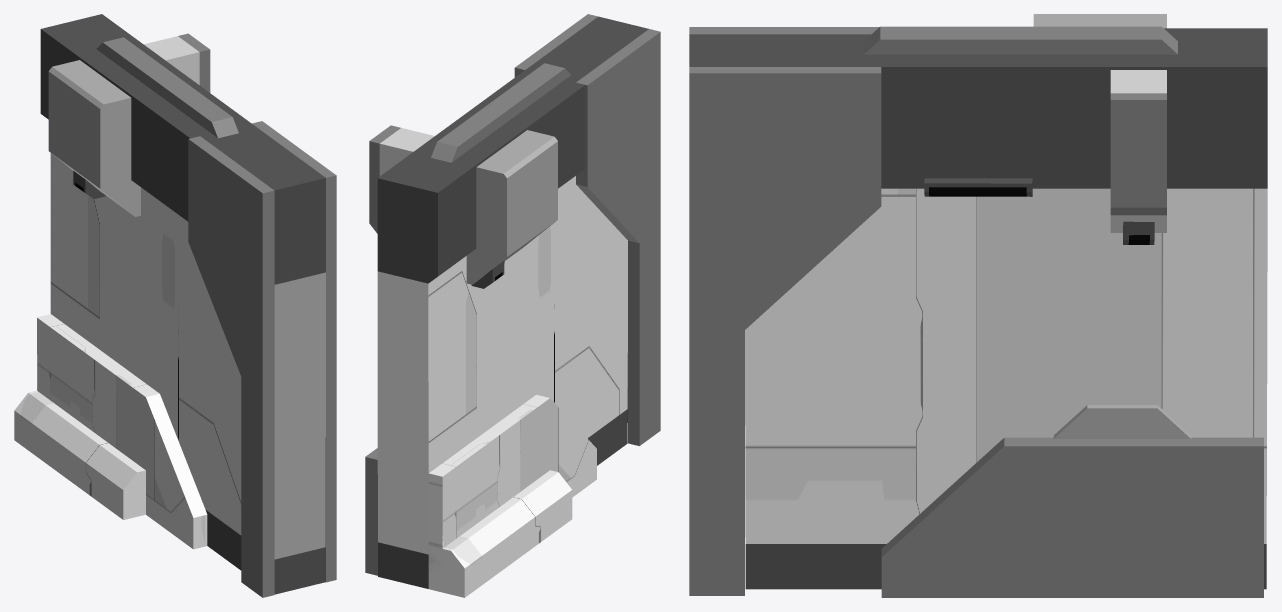
File: SM_Wall_3x3_1.fbx
3 views of the same model, side by side, from view 1: azimuth 30°, elevation 25°; view 2: azimuth 150°, elevation 25°; view 3: azimuth 270°, elevation 25° (orthographic). The views are drawn at different scales.
Parts seen in each view (by area): view 1: SM_Wall_3x3_1; view 2: SM_Wall_3x3_1; view 3: SM_Wall_3x3_1.
Part boxes in pixels (x1,y1,x2,y2): SM_Wall_3x3_1: (14,14,336,597); SM_Wall_3x3_1: (365,14,660,597); SM_Wall_3x3_1: (689,14,1267,597).
Size of the model in its own units: 108 by 309 by 301.
